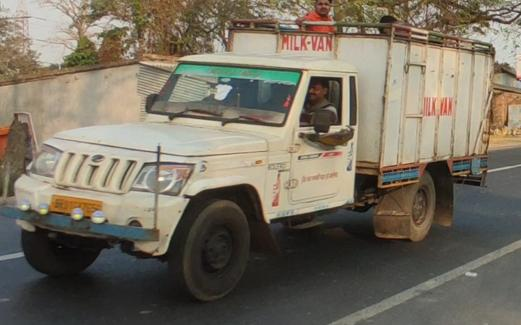Truck: (8, 24, 499, 304)
